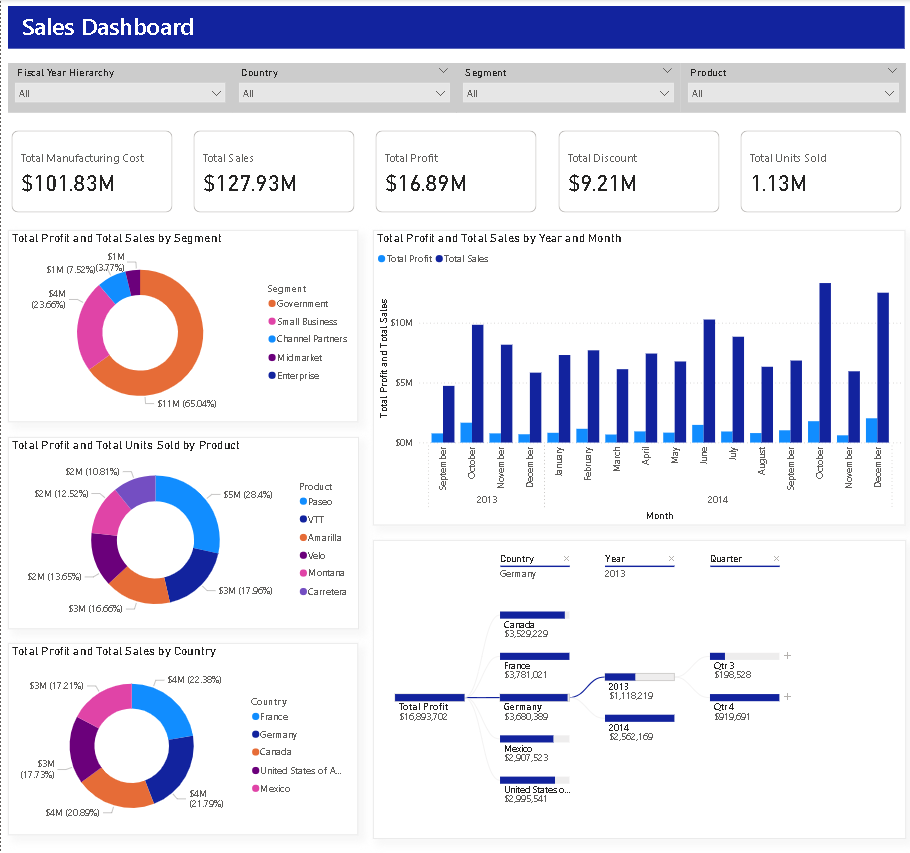

The page's visual inventory and layout, read from the dashboard file:
{"tool":"powerbi","page":{"name":"Page 1","canvas":[1280,1200],"ordinal":0},"visuals":[{"type":"textbox","box":[10,10,1260,60],"z":0},{"type":"slicer","fields":{"Values":["financials.Date.Variation.Date Hierarchy.Year","financials.Date.Variation.Date Hierarchy.Quarter","financials.Date.Variation.Date Hierarchy.Month"]},"box":[10,90,315,70],"z":1000},{"type":"slicer","fields":{"Values":["financials.Country"]},"box":[324.4,90,315.6,70],"z":2000},{"type":"slicer","fields":{"Values":["financials.Segment"]},"box":[640,90,315.6,70],"z":3000},{"type":"slicer","fields":{"Values":["financials.Product"]},"box":[955.6,90,315.6,70],"z":4000},{"type":"cardVisual","fields":{"Data":["financials.Total Manufacturing Cost"]},"box":[10,180,236,125],"z":5000},{"type":"cardVisual","fields":{"Data":["financials.Total Sales"]},"box":[266,180,236,125],"z":6000},{"type":"cardVisual","fields":{"Data":["financials.Total Profit"]},"box":[522,180,236,125],"z":7000},{"type":"cardVisual","fields":{"Data":["financials.Total Discount"]},"box":[778,180,236,125],"z":8000},{"type":"cardVisual","fields":{"Data":["financials.Total Units Sold"]},"box":[1033.8,180,236.2,125],"z":9000},{"type":"donutChart","fields":{"Category":["financials.Segment"],"Y":["financials.Total Profit"]},"box":[10,325,492.3,270],"z":10000},{"type":"donutChart","fields":{"Y":["financials.Total Profit"],"Category":["financials.Product"]},"box":[10,615,492.5,270],"z":11000},{"type":"clusteredColumnChart","fields":{"Category":["financials.Date.Variation.Date Hierarchy.Year","financials.Date.Variation.Date Hierarchy.Month"],"Y":["financials.Total Profit","financials.Total Sales"]},"box":[522.5,325,747.5,415],"z":12000},{"type":"decompositionTreeVisual","fields":{"ExplainBy":["financials.Country","financials.Date.Variation.Date Hierarchy.Year","financials.Date.Variation.Date Hierarchy.Quarter","financials.Date.Variation.Date Hierarchy.Month"],"Analyze":["financials.Total Profit"]},"box":[522.5,760,748.8,420],"z":13000},{"type":"donutChart","fields":{"Category":["financials.Country"],"Y":["financials.Total Profit"]},"box":[10,905,491.7,270],"z":13001}]}

Visuals, with their boxes in screenshot pixels (x1, y1, x2, y2), scaled from the page's 1280x1200 canvas onto the 910x853 screenshot:
textbox: Rect(7, 7, 903, 50)
slicer - financials.Date.Variation.Date Hierarchy.Year x financials.Date.Variation.Date Hierarchy.Quarter: Rect(7, 64, 231, 114)
slicer - financials.Country: Rect(231, 64, 455, 114)
slicer - financials.Segment: Rect(455, 64, 679, 114)
slicer - financials.Product: Rect(679, 64, 904, 114)
cardVisual - financials.Total Manufacturing Cost: Rect(7, 128, 175, 217)
cardVisual - financials.Total Sales: Rect(189, 128, 357, 217)
cardVisual - financials.Total Profit: Rect(371, 128, 539, 217)
cardVisual - financials.Total Discount: Rect(553, 128, 721, 217)
cardVisual - financials.Total Units Sold: Rect(735, 128, 903, 217)
donutChart - financials.Segment x financials.Total Profit: Rect(7, 231, 357, 423)
donutChart - financials.Total Profit x financials.Product: Rect(7, 437, 357, 629)
clusteredColumnChart - financials.Date.Variation.Date Hierarchy.Year x financials.Date.Variation.Date Hierarchy.Month: Rect(371, 231, 903, 526)
decompositionTreeVisual - financials.Country x financials.Date.Variation.Date Hierarchy.Year: Rect(371, 540, 904, 839)
donutChart - financials.Country x financials.Total Profit: Rect(7, 643, 357, 835)
